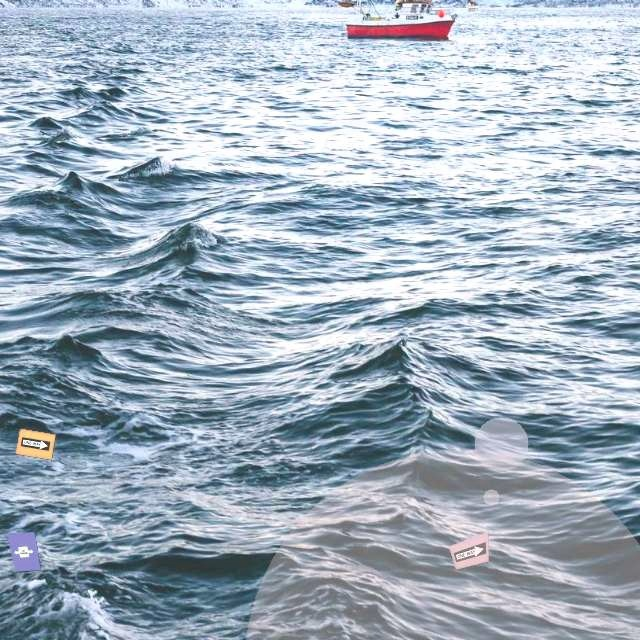GO_AROUND: (13, 545, 34, 559)
ONE_WAY_ right: (453, 542, 489, 562), (21, 437, 50, 451)
